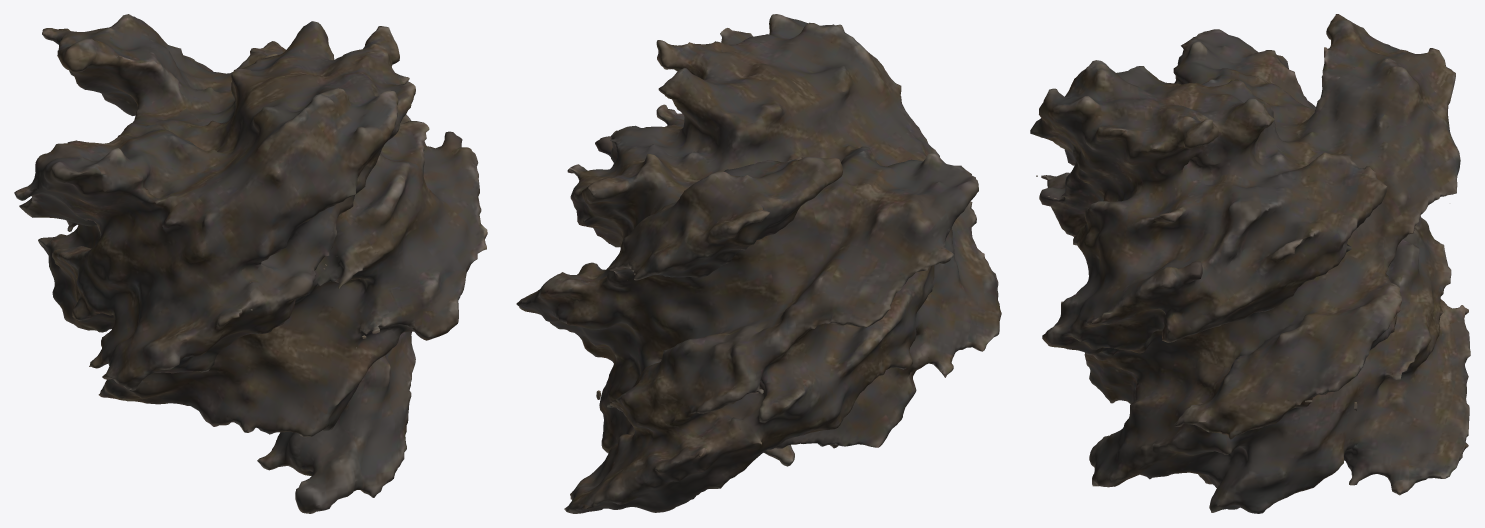
The picture shows the model from 3 angles, left to right: view 1: azimuth 30°, elevation 25°; view 2: azimuth 150°, elevation 25°; view 3: azimuth 270°, elevation 25°; orthographic projection. The views are drawn at different scales.
Visible parts, largest first — view 1: Volume_Mesher; view 2: Volume_Mesher; view 3: Volume_Mesher.
Boxes of the visible parts, box(x1,y1,x2,y2) form: Volume_Mesher: box(14, 14, 487, 513); Volume_Mesher: box(516, 14, 1001, 513); Volume_Mesher: box(1030, 14, 1470, 513).
Size of the model in its own units: 3.74 by 3.67 by 3.59.
Materials: 1 (1 with a texture image).
